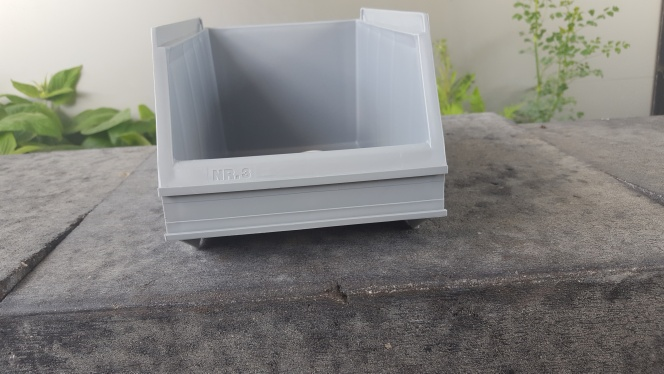tray_front: (154, 14, 451, 246)
